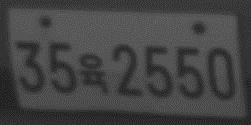0: (209, 47, 236, 100)
2: (111, 43, 143, 98)
3: (13, 40, 45, 93)
5: (48, 41, 77, 94), (176, 46, 205, 99), (145, 44, 173, 98)
육: (78, 52, 109, 96)
